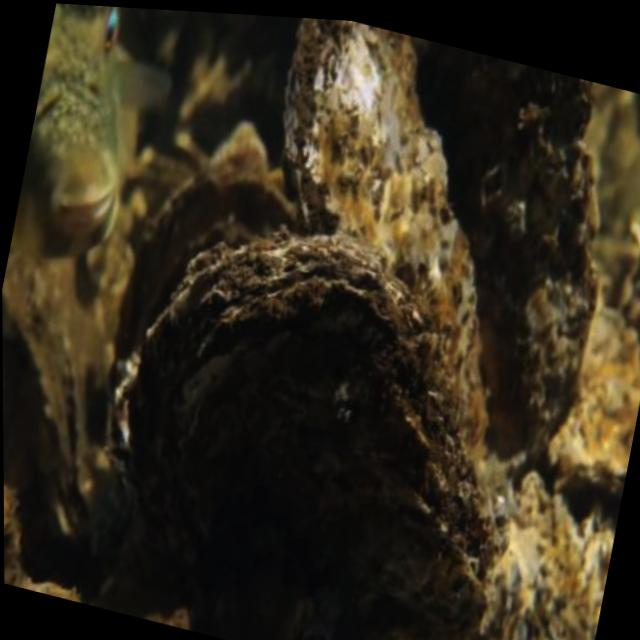Oyster-Indeterminate: (113, 240, 512, 640), (290, 18, 493, 446), (405, 35, 602, 443), (2, 253, 127, 545)
Oyster-Open: (111, 174, 305, 394)
